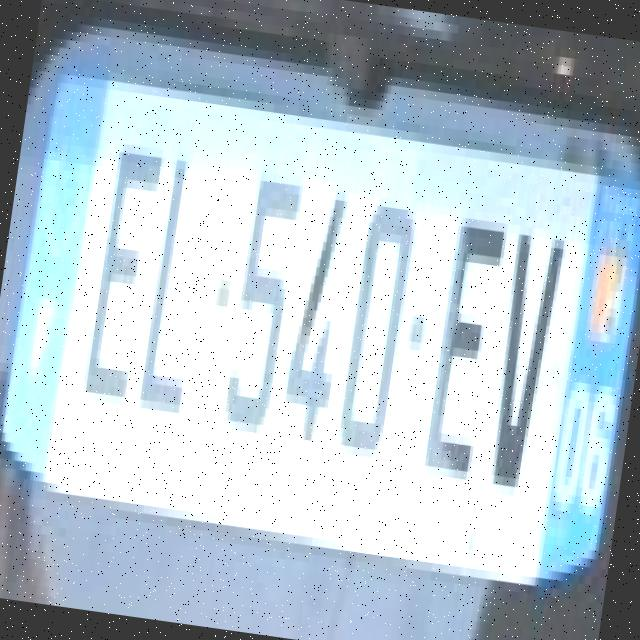EU: (0, 69, 640, 592)
France: (3, 78, 102, 476)
